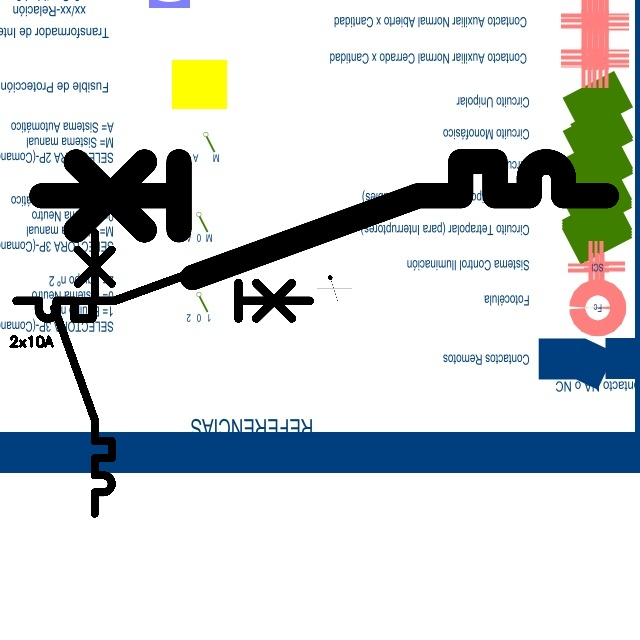interruptor_termomagnetico: (27, 147, 621, 292), (9, 251, 317, 326), (47, 225, 119, 521)
